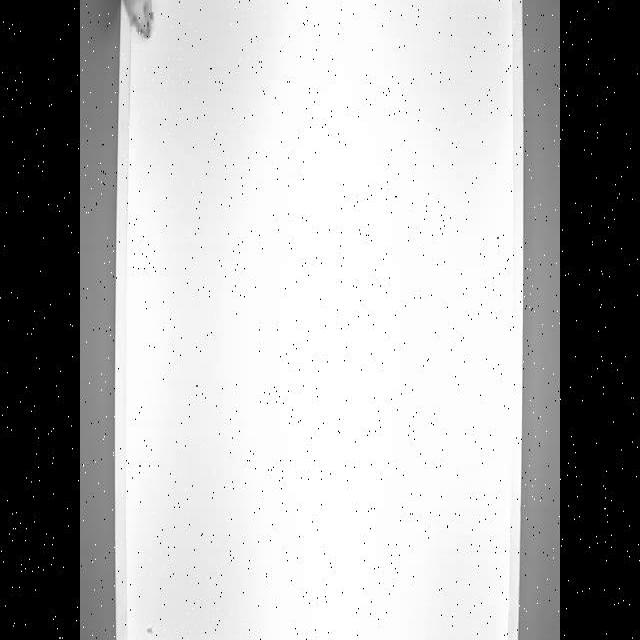rat: (113, 0, 159, 39)
